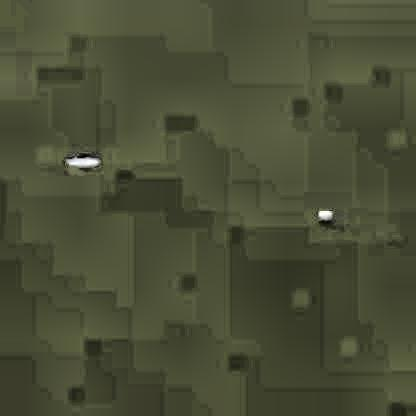golfball: (316, 208, 331, 222)
